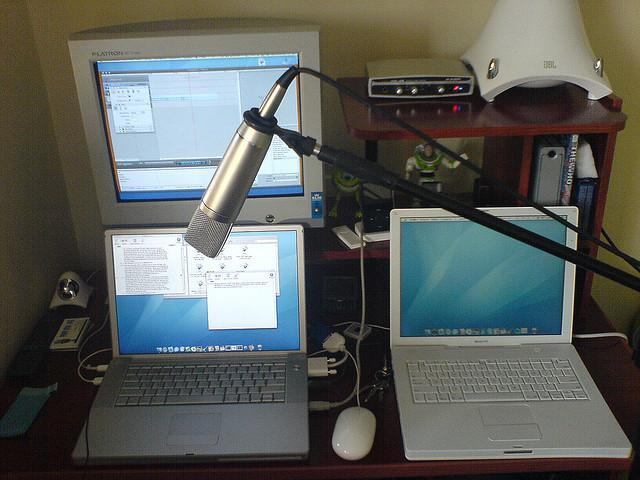tv: (385, 201, 612, 456), (84, 233, 321, 451), (65, 30, 325, 214)
